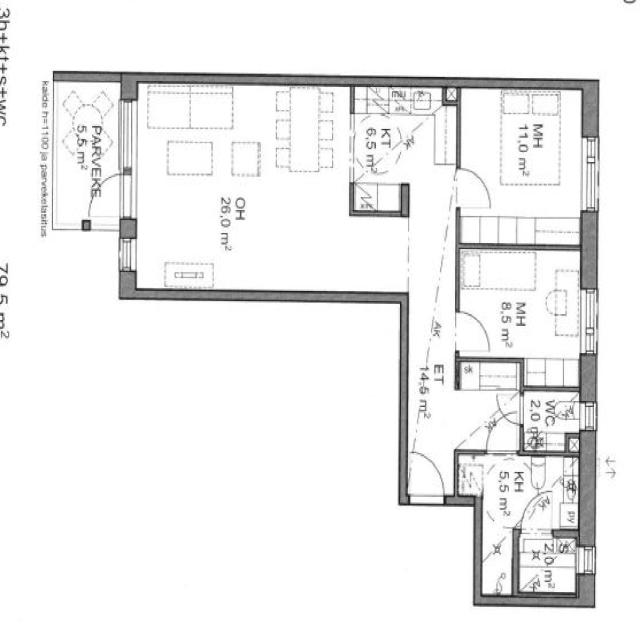door: (86, 166, 132, 228), (403, 449, 448, 505), (450, 164, 494, 214), (450, 306, 491, 356), (483, 410, 521, 457), (521, 493, 557, 537), (493, 392, 527, 428)
window: (576, 129, 604, 222), (576, 282, 604, 360), (117, 94, 138, 174), (115, 231, 139, 275), (578, 398, 599, 434), (576, 544, 597, 576)
zone: (127, 84, 339, 292), (456, 86, 584, 246), (454, 247, 586, 376), (348, 98, 458, 212), (472, 452, 580, 530), (478, 458, 518, 601), (515, 532, 581, 597), (520, 388, 581, 453), (502, 489, 564, 536)
